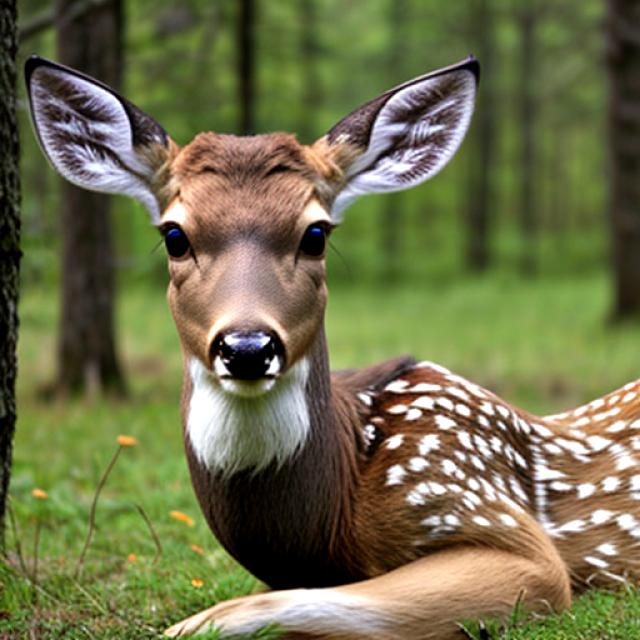deer: (23, 35, 492, 419)
